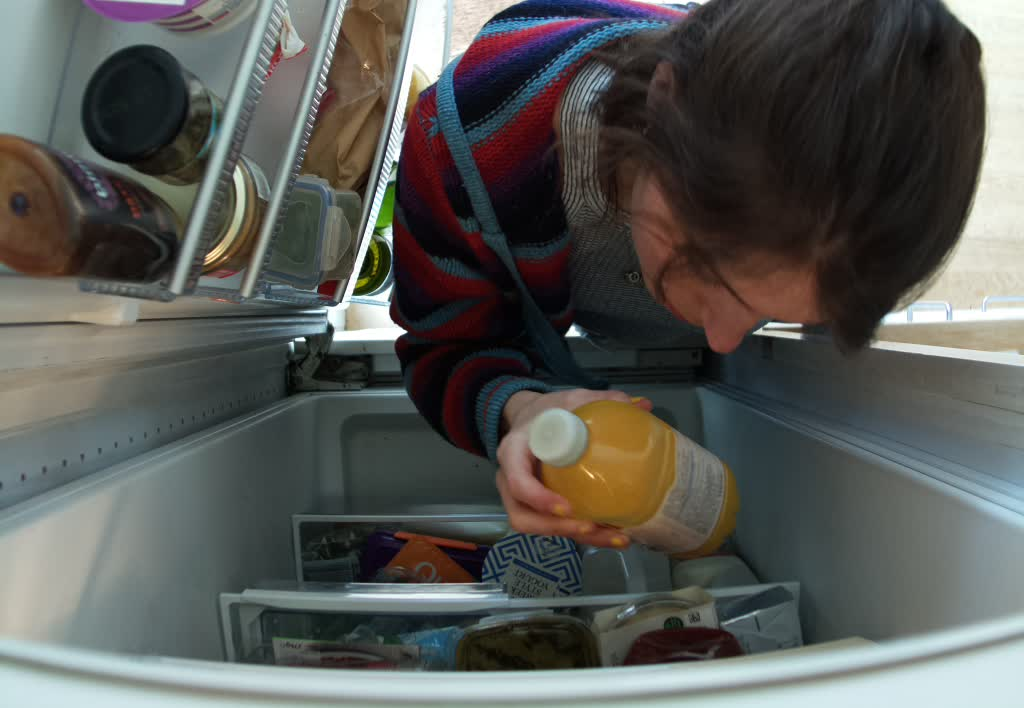juice: (526, 398, 745, 561)
